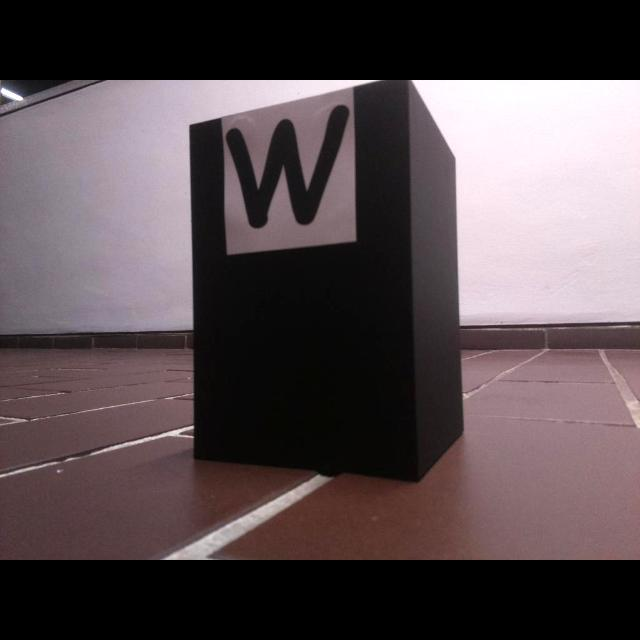W: (224, 103, 352, 231)
